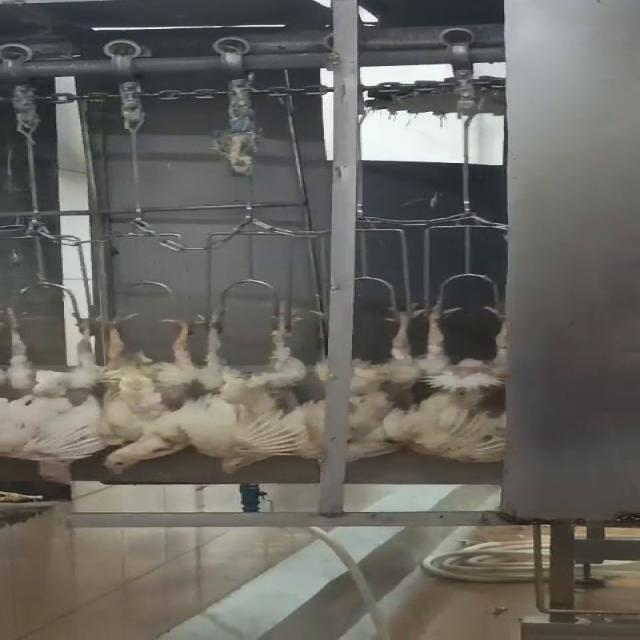chicken: (393, 294, 533, 465), (199, 302, 328, 478), (347, 291, 445, 466), (100, 310, 198, 481), (0, 302, 101, 462)
